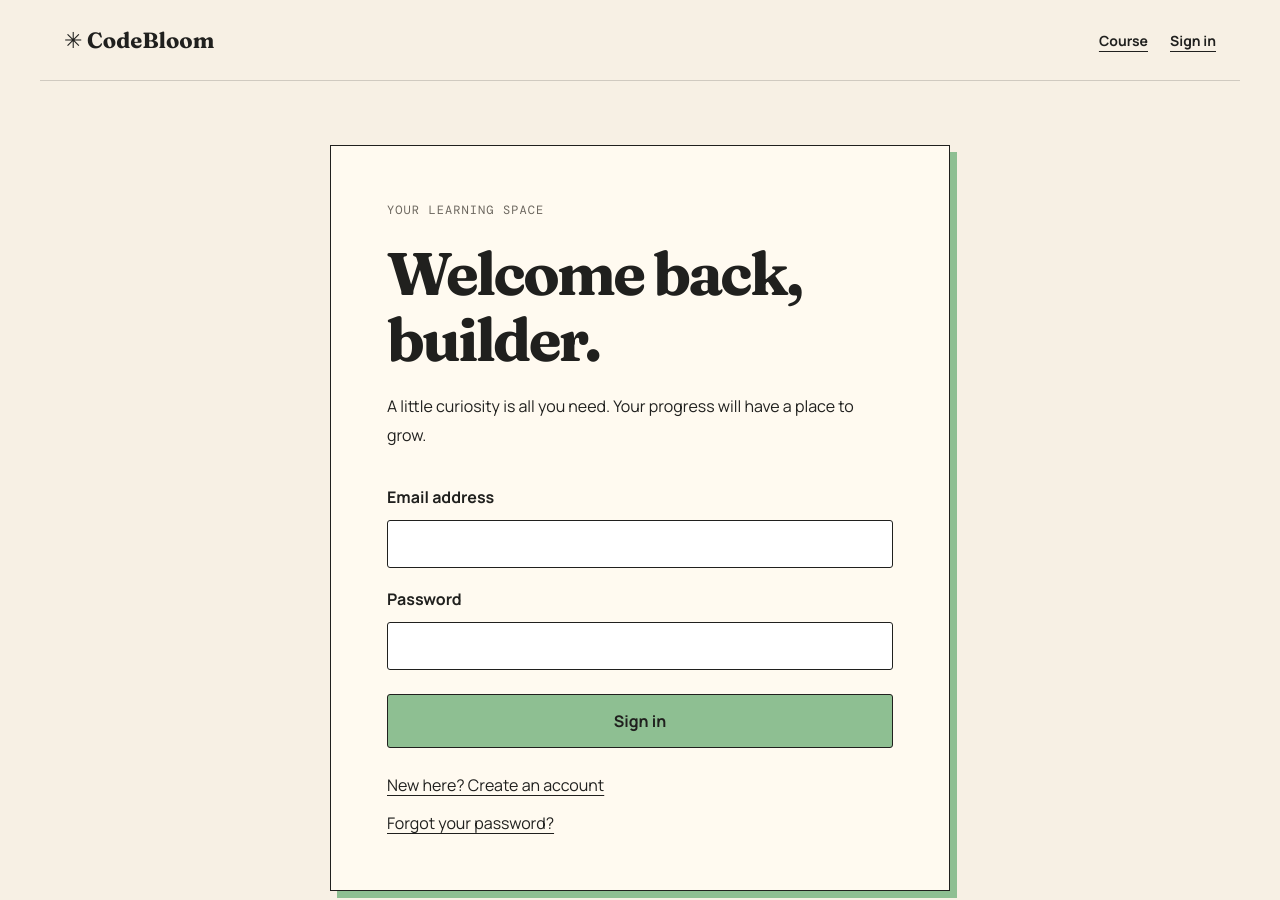
account and lesson routes › sends login credentials and reports failures
The image size is (1280, 900).
Type "alice@example.test" into the field labelled "Email address". click: coordinates (640, 544)
box: [387, 520, 893, 568]
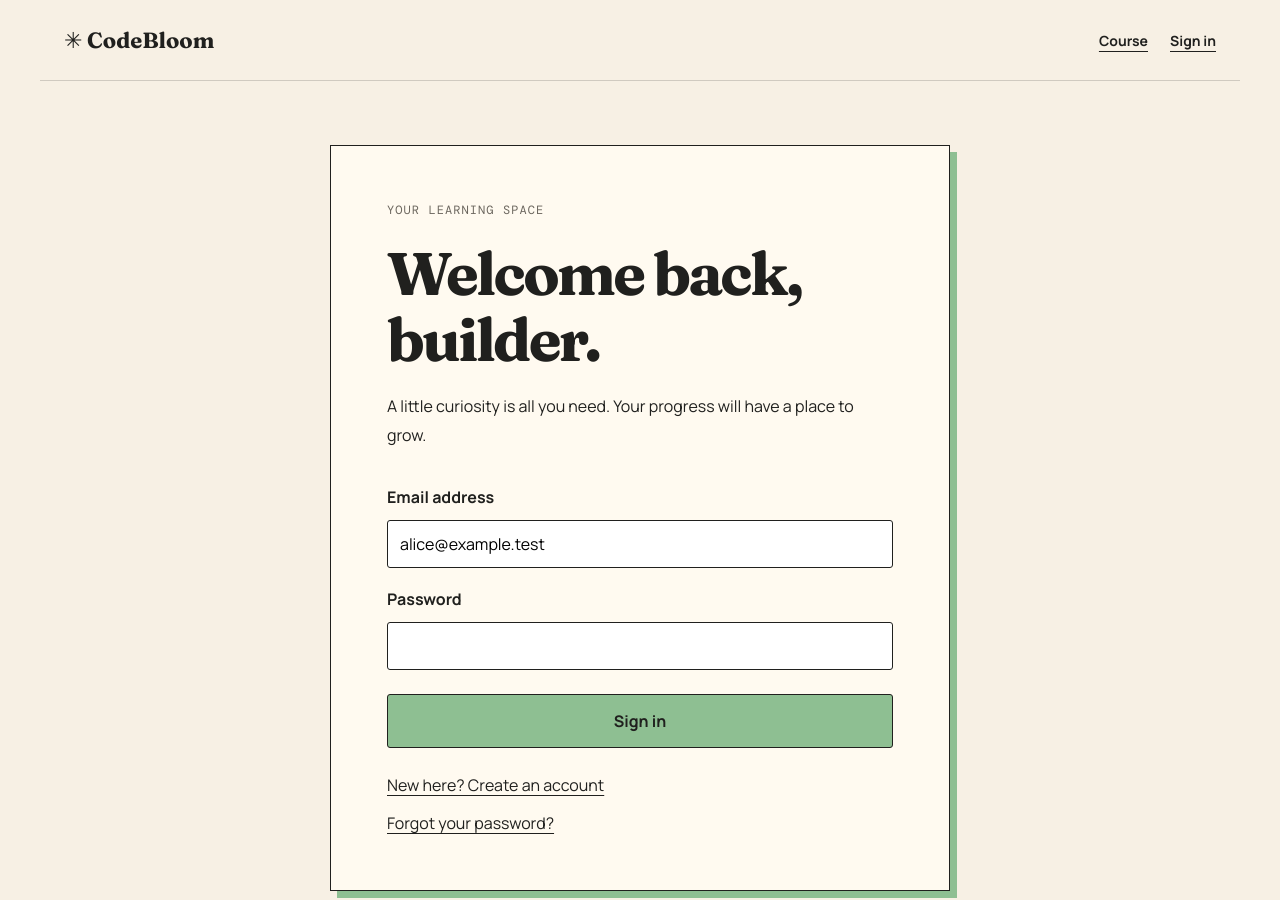
Type "wrong-password" into the password field labelled "Password". click: coordinates (640, 646)
box: [387, 622, 893, 670]
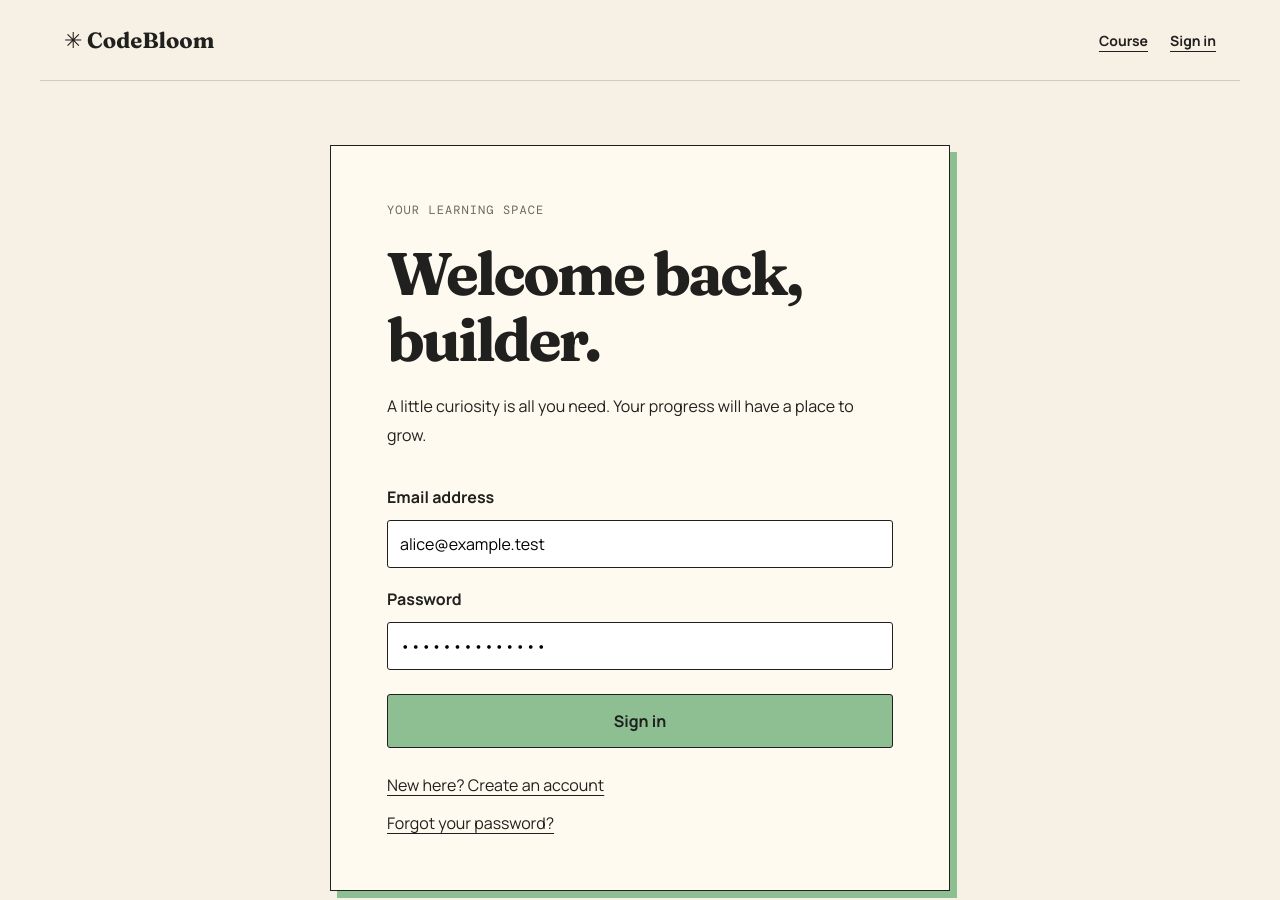
Click the button "Sign in". click: coordinates (640, 721)
box: [387, 694, 893, 748]
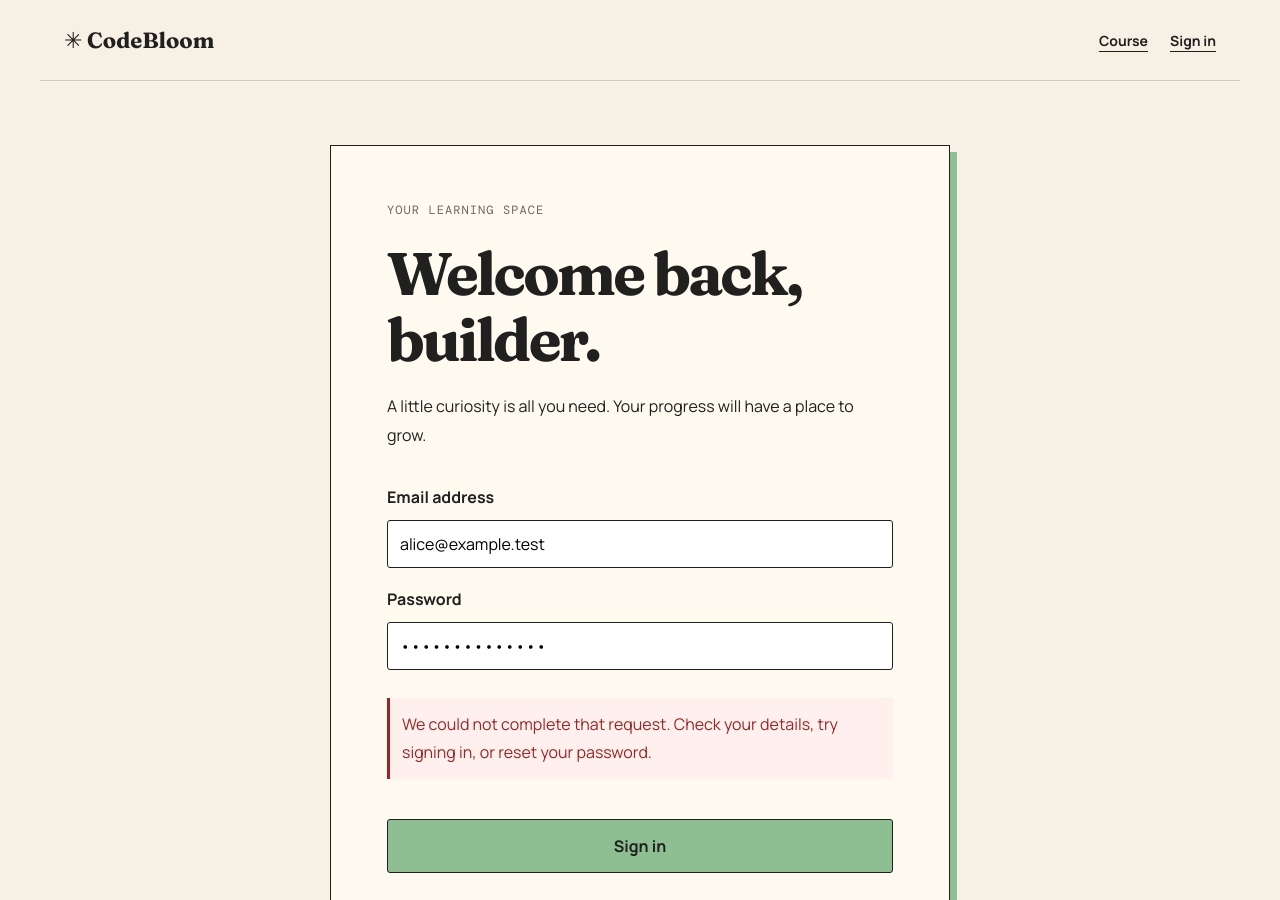
Now the message shows "Check your details", box [402, 713, 838, 763]
